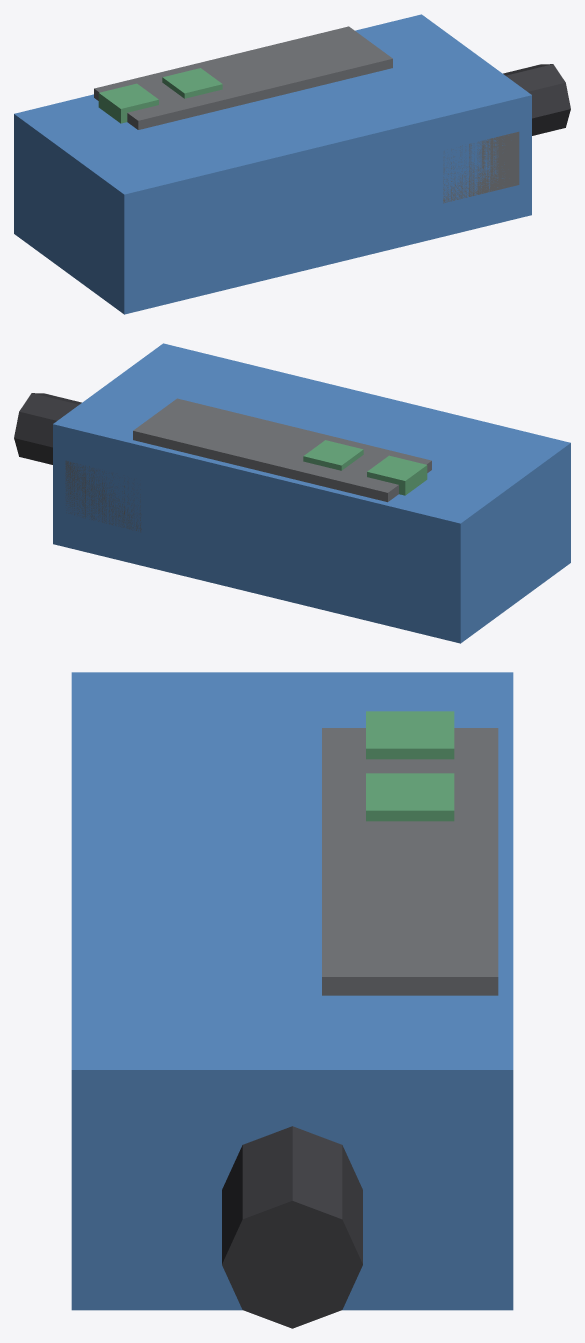
The model's file is eld_powerbank.glb.
3 renders of one model, top to bottom at view 1: azimuth 30°, elevation 25°; view 2: azimuth 150°, elevation 25°; view 3: azimuth 270°, elevation 25°, orthographic. The views are drawn at different scales.
Parts seen in each view (by area): view 1: ELD_POWERBANK_v01; view 2: ELD_POWERBANK_v01; view 3: ELD_POWERBANK_v01.
Part boxes in pixels (x1,y1,x2,y2): ELD_POWERBANK_v01: (14, 14, 570, 314); ELD_POWERBANK_v01: (14, 343, 570, 643); ELD_POWERBANK_v01: (71, 672, 513, 1328).
Bounding box in the file's own units: 0.19 × 0.0505 × 0.075.
